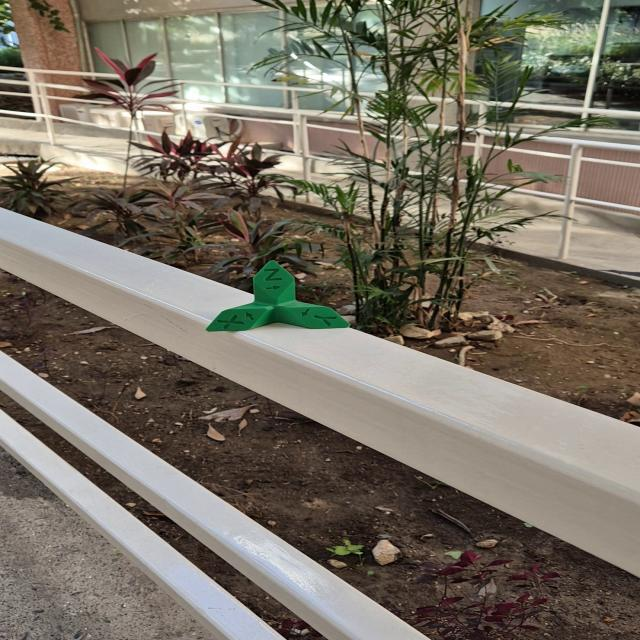objects: (205, 260, 352, 332)
